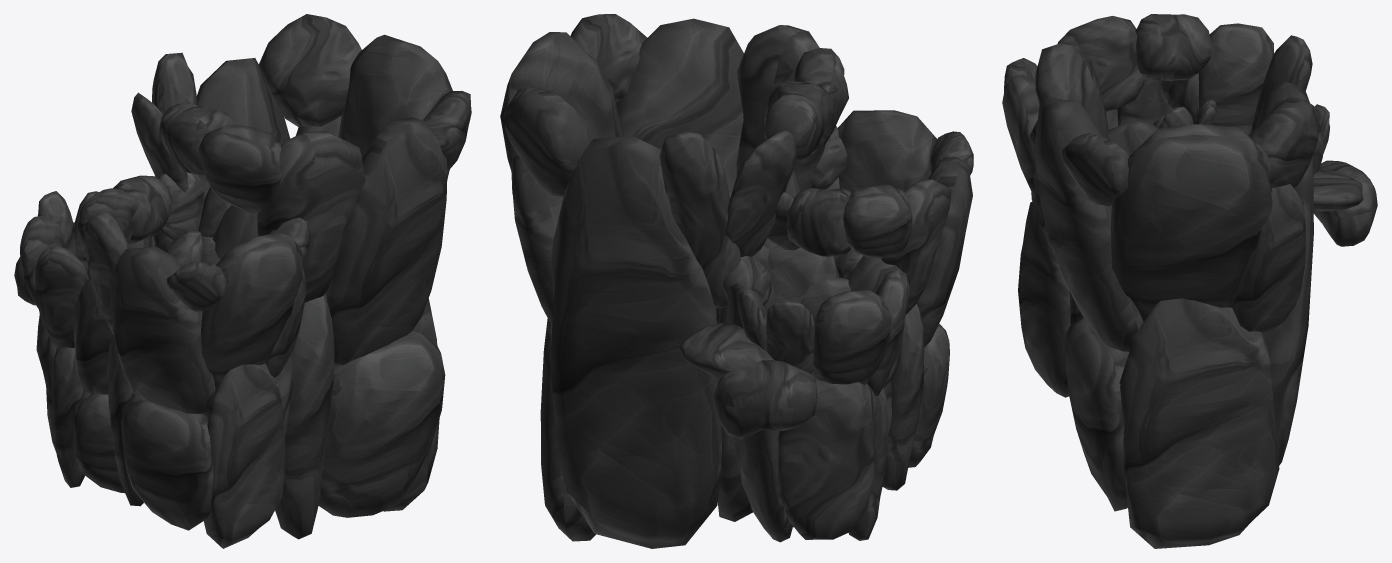
The model's file is IslandPlatformRocks1Shape.dae.
3 renders of one model, left to right at view 1: azimuth 30°, elevation 25°; view 2: azimuth 150°, elevation 25°; view 3: azimuth 270°, elevation 25°, orthographic. The views are drawn at different scales.
Parts seen in each view (by area): view 1: IslandPlatformRocks1; view 2: IslandPlatformRocks1; view 3: IslandPlatformRocks1.
Boxes of the visible parts, <box> form: IslandPlatformRocks1: <box>14,14,471,548</box>; IslandPlatformRocks1: <box>500,14,973,548</box>; IslandPlatformRocks1: <box>1002,14,1377,548</box>.
Size of the model in its own units: 75.19 by 85.22 by 65.69.
